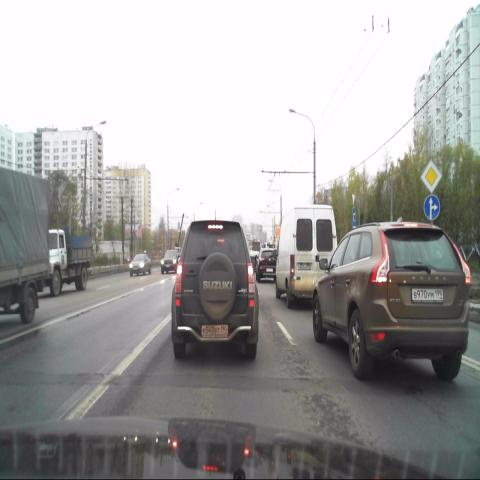4_1_4: (424, 194, 440, 222)
